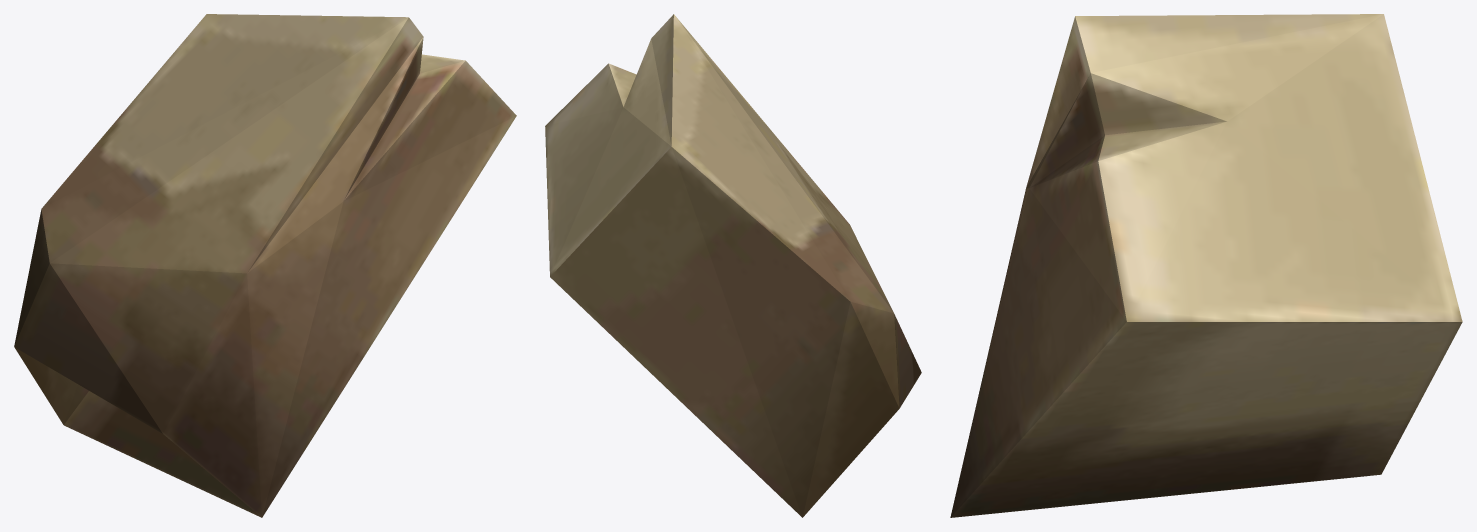
Rendered from caodi_jtsp_02.fbx.
3 views of the same model, side by side, from view 1: azimuth 30°, elevation 25°; view 2: azimuth 150°, elevation 25°; view 3: azimuth 270°, elevation 25° (orthographic). The views are drawn at different scales.
Parts seen in each view (by area): view 1: caodi_jtsp_02; view 2: caodi_jtsp_02; view 3: caodi_jtsp_02.
Boxes of the visible parts, box(x1,y1,x2,y2) form: caodi_jtsp_02: box(14, 14, 516, 517); caodi_jtsp_02: box(545, 14, 921, 517); caodi_jtsp_02: box(950, 14, 1462, 517).
Bounding box in the file's own units: 1.72 × 1.56 × 1.13.
